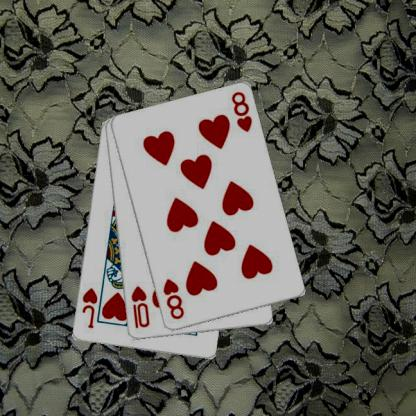10H: (130, 284, 152, 330)
8H: (162, 276, 187, 321), (230, 89, 255, 134)
JH: (81, 285, 100, 330)
